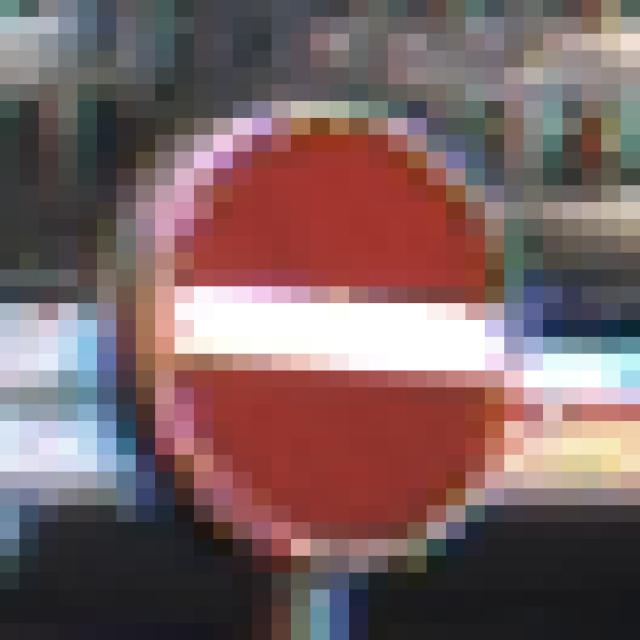No Entry: (98, 85, 544, 557)
